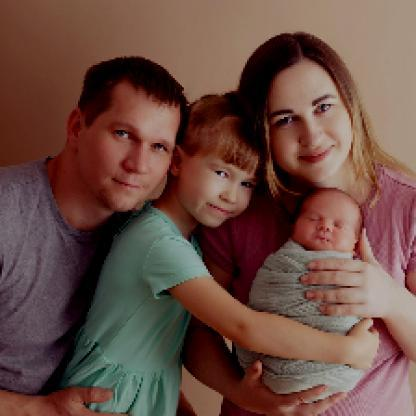child: (235, 189, 382, 384)
